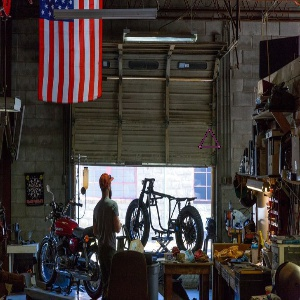triangle: (196, 124, 224, 156)
